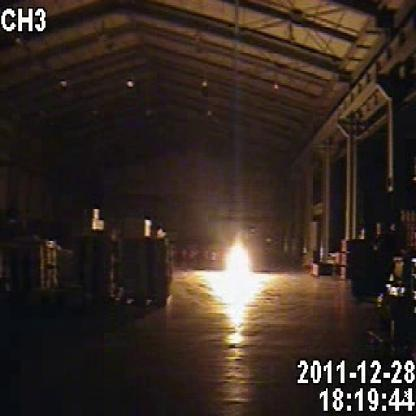fire: (201, 211, 282, 383)
